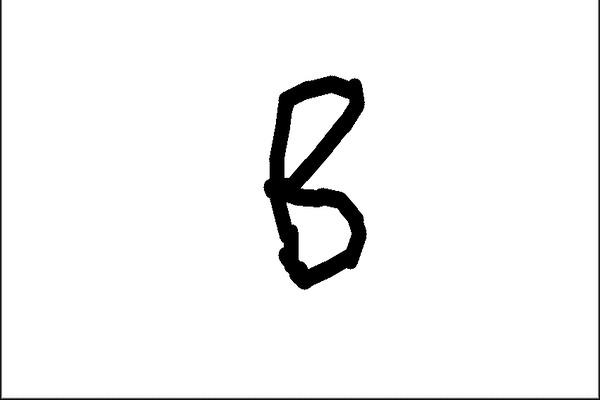B: (257, 71, 371, 292)
